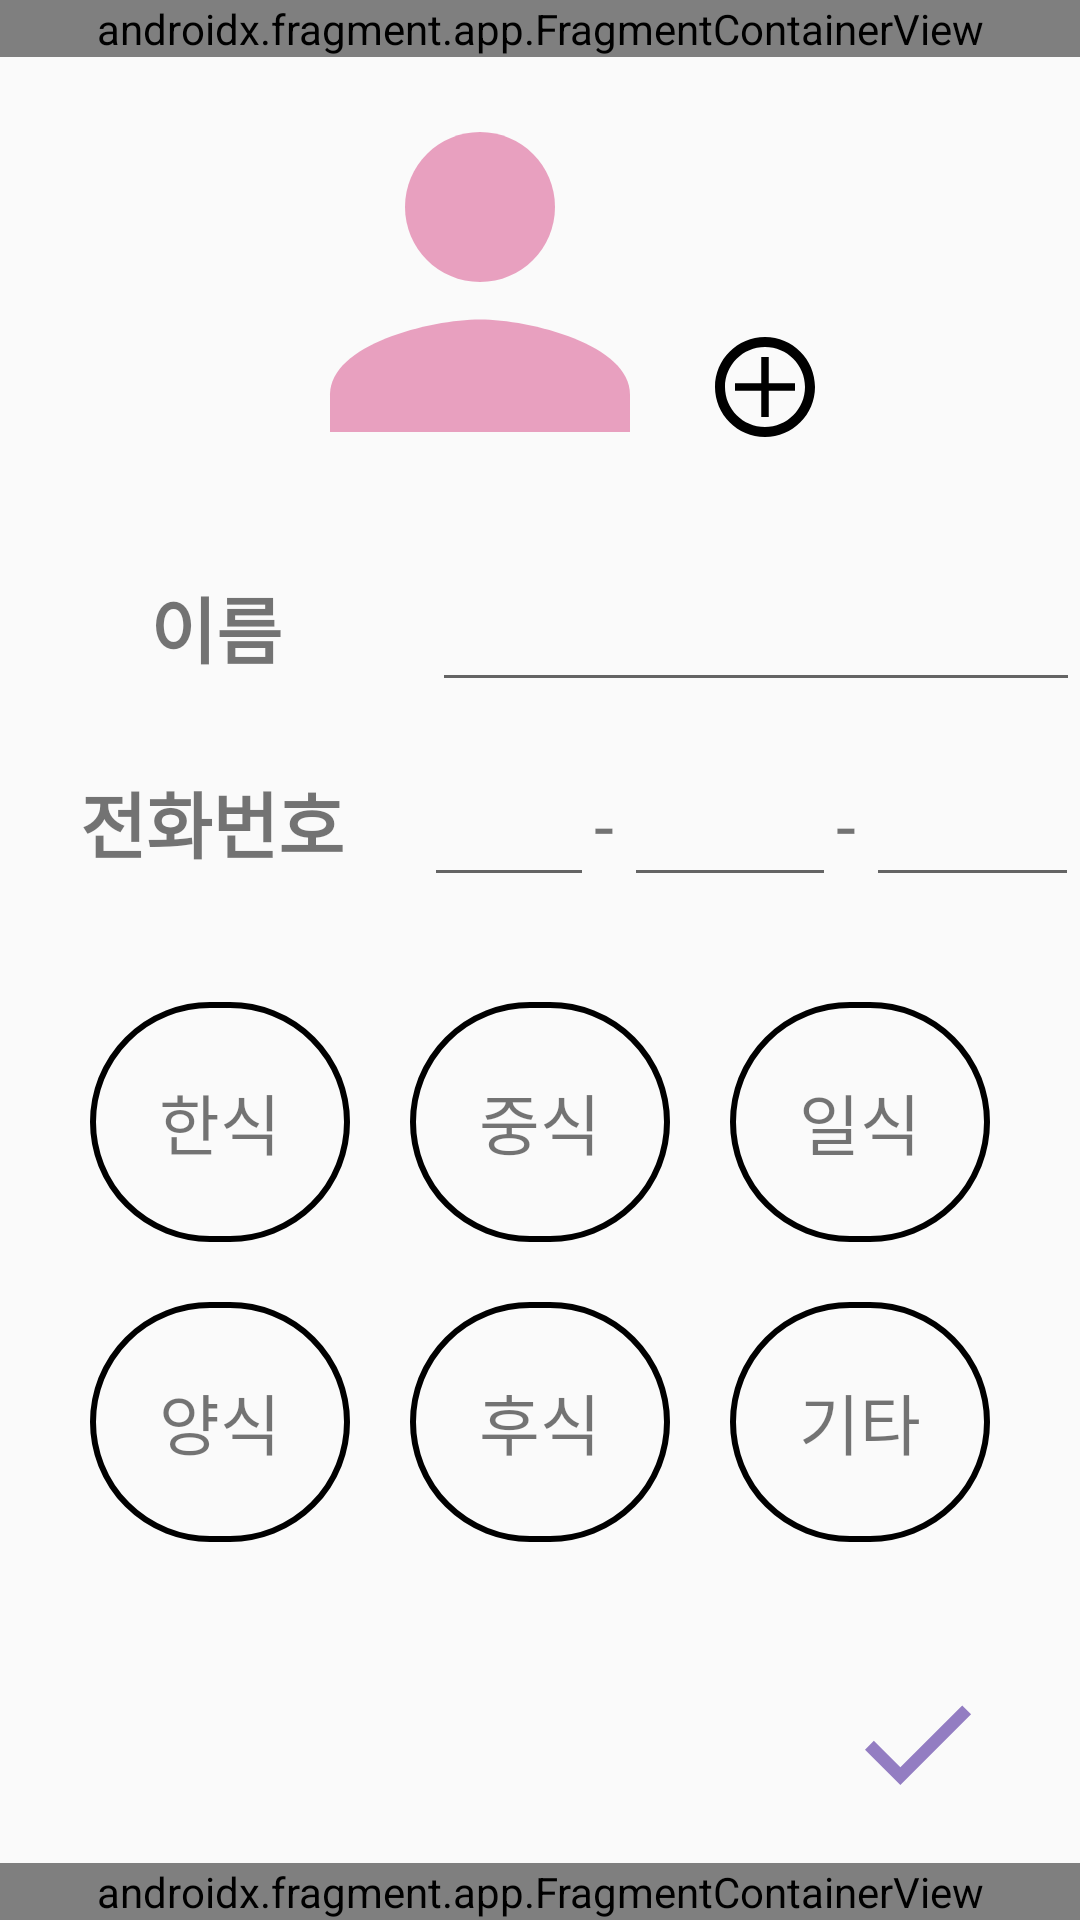

Locate icon controls on the screen. Image size 1080w x 1920h, boxes as bbox=(x1, y1, x2, y2).
check: bbox=(865, 1705, 971, 1785)
person: bbox=(330, 132, 630, 432)
plus: bbox=(715, 337, 815, 437)
